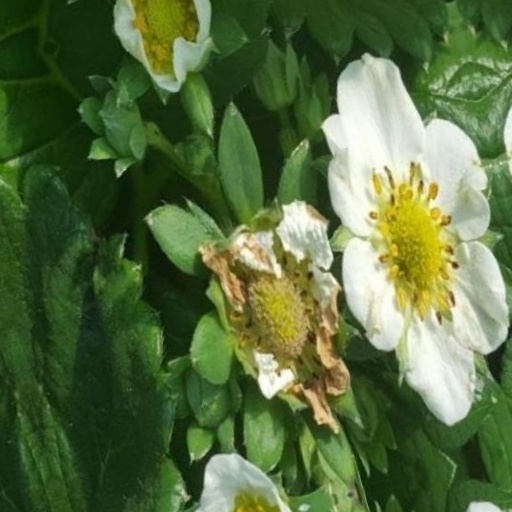Blossom Blight: (203, 241, 302, 402), (54, 201, 140, 376)
